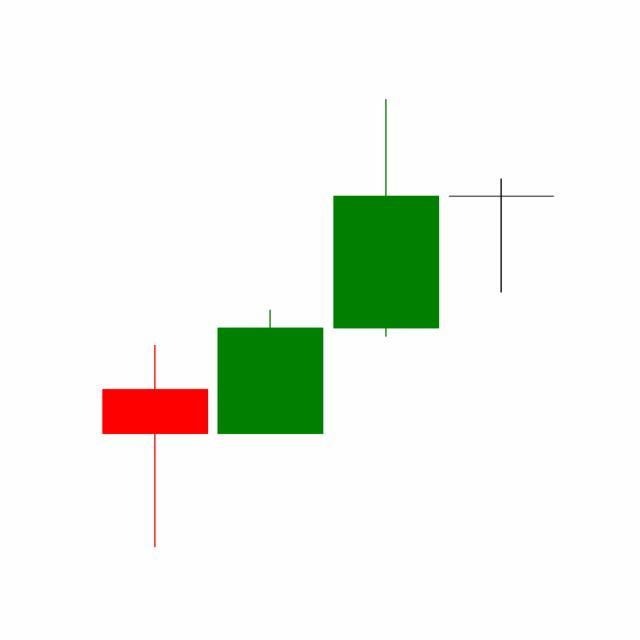Spinning Top: (444, 178, 560, 296)
